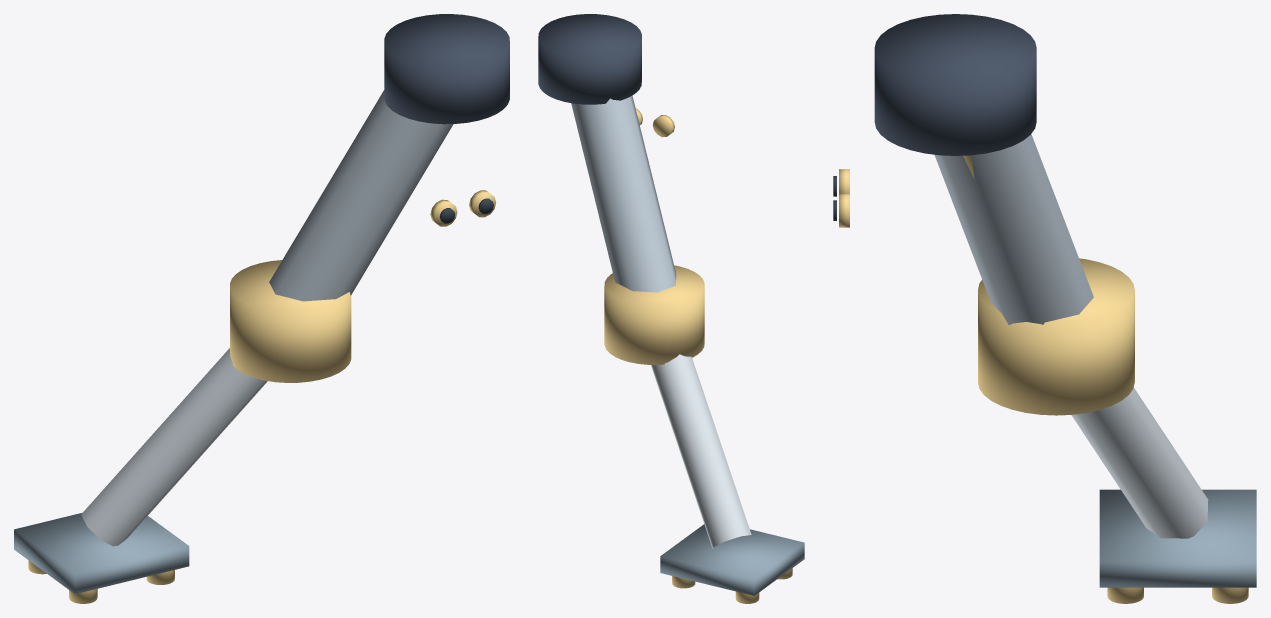
Rendered from 20_L92_ArticulatedLandingLegC.glb.
3 views of the same model, side by side, from view 1: azimuth 30°, elevation 25°; view 2: azimuth 150°, elevation 25°; view 3: azimuth 270°, elevation 25° (orthographic). The views are drawn at different scales.
Parts seen in each view (by area): view 1: L92_ArticulatedLandingLegC_Part_0000, L92_ArticulatedLandingLegC_Part_0002, L92_ArticulatedLandingLegC_Part_0004, L92_ArticulatedLandingLegC_Part_0003, L92_ArticulatedLandingLegC_Part_0005, L92_ArticulatedLandingLegC_Part_0006; view 2: L92_ArticulatedLandingLegC_Part_0000, L92_ArticulatedLandingLegC_Part_0002, L92_ArticulatedLandingLegC_Part_0004, L92_ArticulatedLandingLegC_Part_0003, L92_ArticulatedLandingLegC_Part_0005, L92_ArticulatedLandingLegC_Part_0006, L92_ArticulatedLandingLegC_Part_0007; view 3: L92_ArticulatedLandingLegC_Part_0002, L92_ArticulatedLandingLegC_Part_0000, L92_ArticulatedLandingLegC_Part_0003, L92_ArticulatedLandingLegC_Part_0005, L92_ArticulatedLandingLegC_Part_0004, L92_ArticulatedLandingLegC_Part_0006.
Boxes of the visible parts, <box> form: L92_ArticulatedLandingLegC_Part_0000: <box>269,90,453,301</box>; L92_ArticulatedLandingLegC_Part_0002: <box>384,14,509,124</box>; L92_ArticulatedLandingLegC_Part_0004: <box>81,348,267,546</box>; L92_ArticulatedLandingLegC_Part_0003: <box>230,260,351,382</box>; L92_ArticulatedLandingLegC_Part_0005: <box>14,512,189,593</box>; L92_ArticulatedLandingLegC_Part_0006: <box>28,560,174,603</box>; L92_ArticulatedLandingLegC_Part_0000: <box>571,95,676,292</box>; L92_ArticulatedLandingLegC_Part_0002: <box>538,14,641,104</box>; L92_ArticulatedLandingLegC_Part_0004: <box>651,354,751,549</box>; L92_ArticulatedLandingLegC_Part_0003: <box>604,265,704,364</box>; L92_ArticulatedLandingLegC_Part_0005: <box>660,524,804,595</box>; L92_ArticulatedLandingLegC_Part_0006: <box>672,568,792,603</box>; L92_ArticulatedLandingLegC_Part_0007: <box>652,115,674,137</box>; L92_ArticulatedLandingLegC_Part_0002: <box>874,14,1036,155</box>; L92_ArticulatedLandingLegC_Part_0000: <box>934,134,1093,324</box>; L92_ArticulatedLandingLegC_Part_0003: <box>978,258,1134,415</box>; L92_ArticulatedLandingLegC_Part_0005: <box>1099,489,1256,587</box>; L92_ArticulatedLandingLegC_Part_0004: <box>1071,387,1208,538</box>; L92_ArticulatedLandingLegC_Part_0006: <box>1107,587,1248,603</box>.
Bounding box in the file's own units: 2.11 × 2.9 × 1.62.
